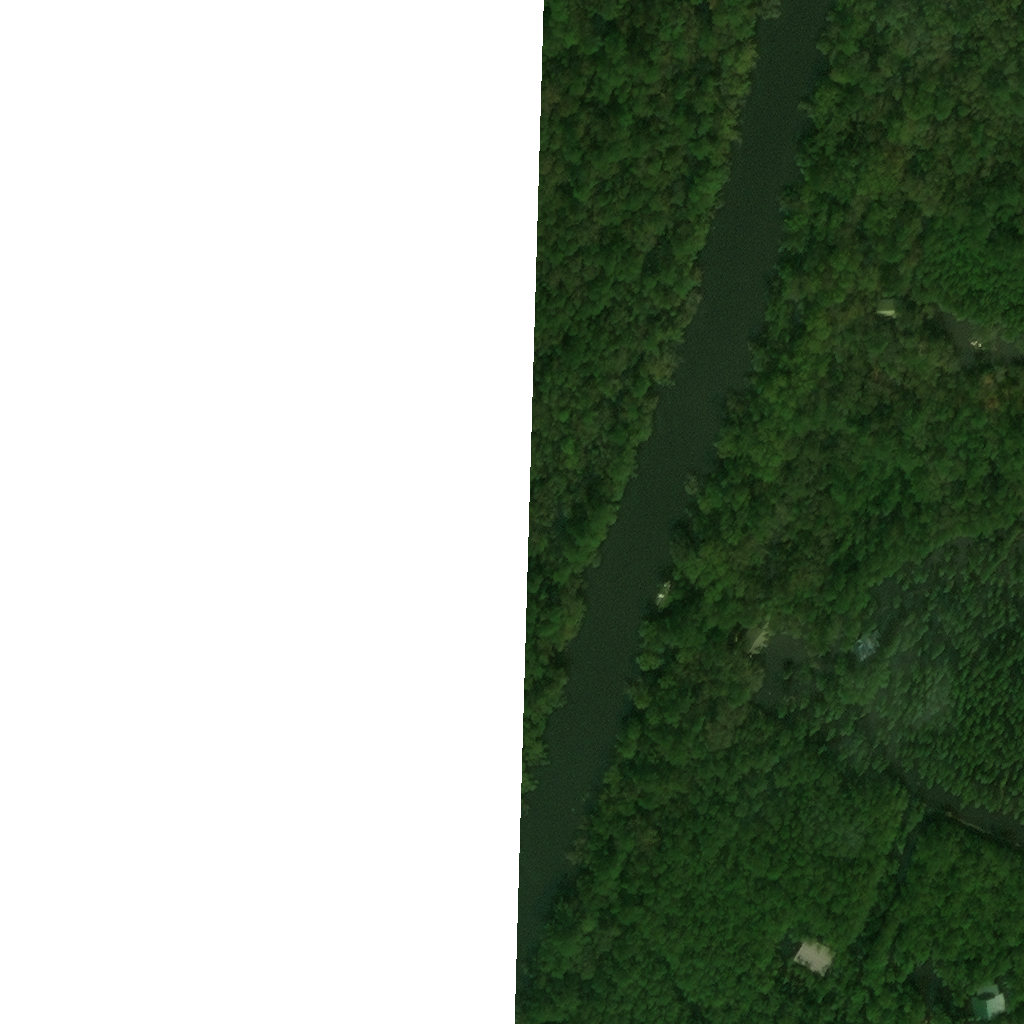major_damage: (733, 602, 780, 650), (790, 933, 837, 976), (972, 983, 1003, 1016), (849, 629, 883, 654), (869, 294, 894, 309)
